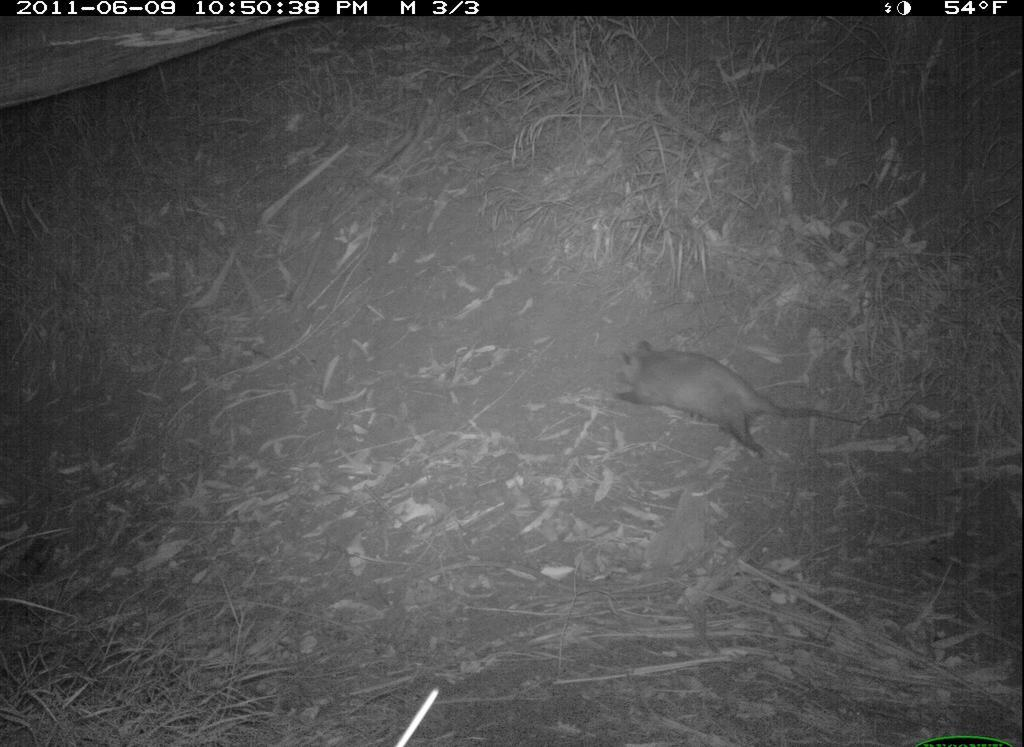opossum: (607, 314, 876, 470)
